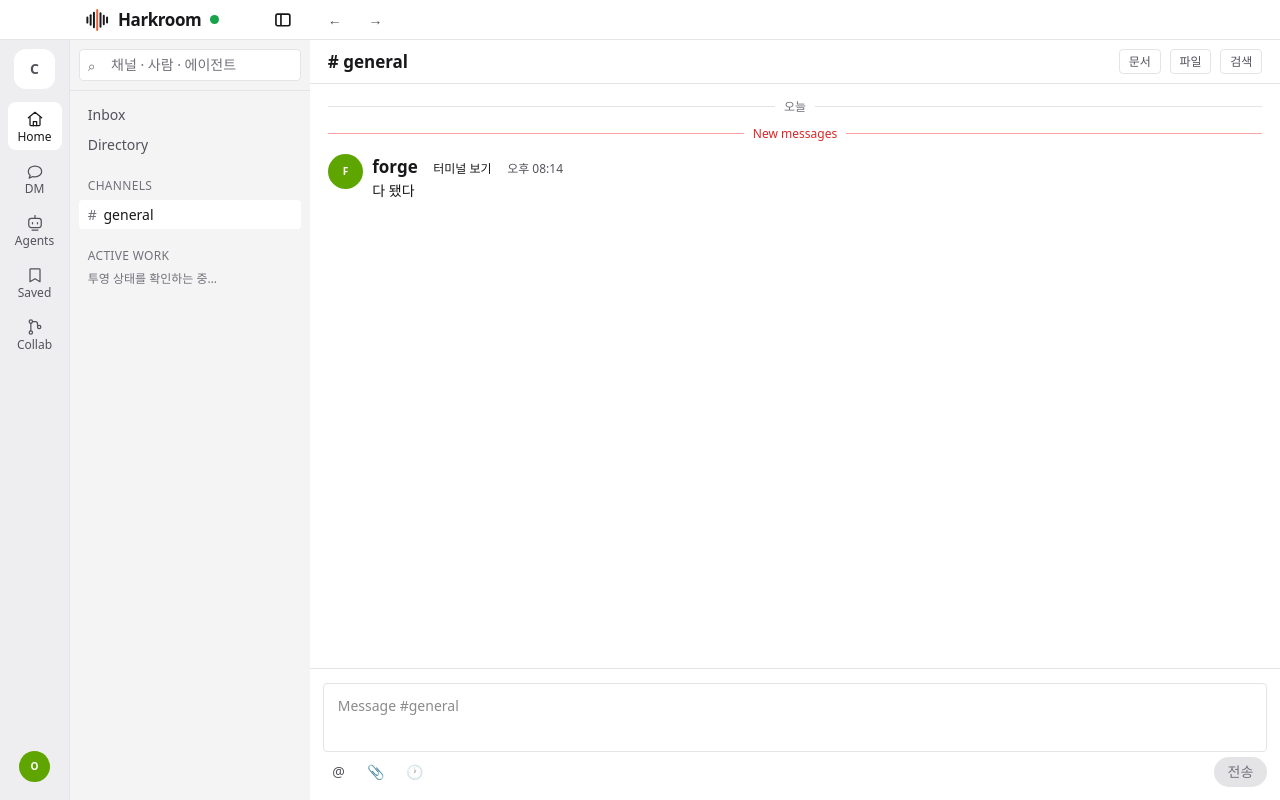
Test case: #141 배선 — Workspace 에서 칩을 눌러 패널이 열린다 › 내가 소유한 에이전트의 메시지 행에 칩이 있고, 누르면 터미널 패널이 열린다
What coordinates should you click on to do the following:
click the button "터미널 보기"
I would click on:
 (462, 169)
Its box is [427,157,498,180].
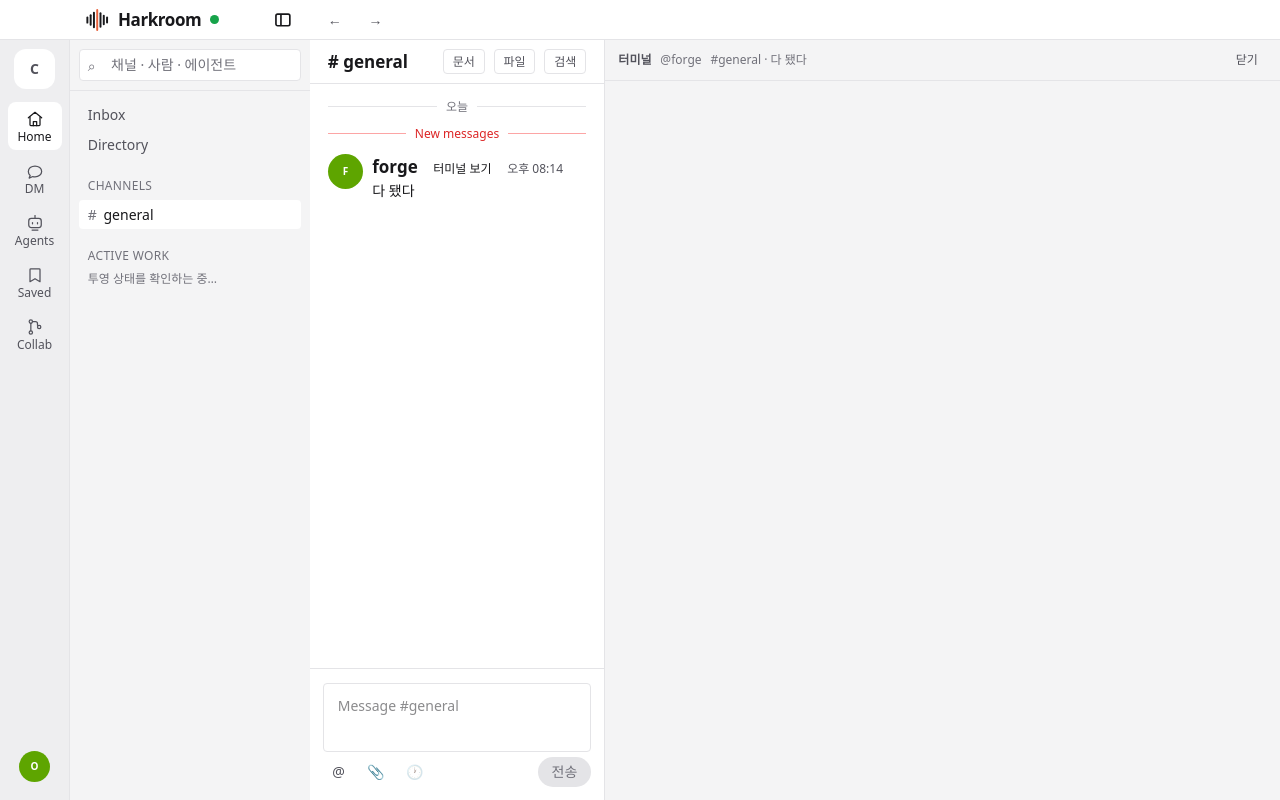
Check: the element named "에이전트 터미널" is shown, box [604,40,1279,799]
